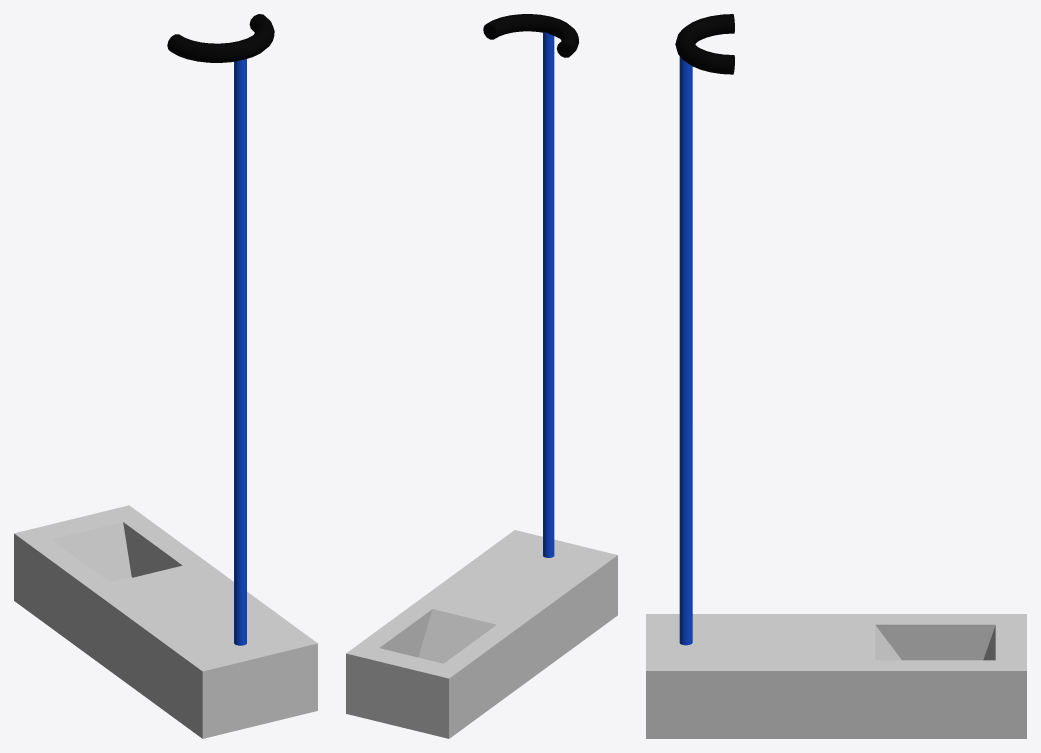
Rendered from StickStand.fbx.
3 renders of one model, left to right at view 1: azimuth 30°, elevation 25°; view 2: azimuth 150°, elevation 25°; view 3: azimuth 270°, elevation 25°, orthographic. The views are drawn at different scales.
Visible parts, largest first — view 1: RibbonStick Stand; view 2: RibbonStick Stand; view 3: RibbonStick Stand.
Part boxes in pixels (left/top/right/bottom): RibbonStick Stand: left=14, top=14, right=317, bottom=738; RibbonStick Stand: left=346, top=14, right=617, bottom=738; RibbonStick Stand: left=646, top=14, right=1026, bottom=738.
Size of what is drawn, in the model's own units: 8.68 by 48.13 by 24.61.
